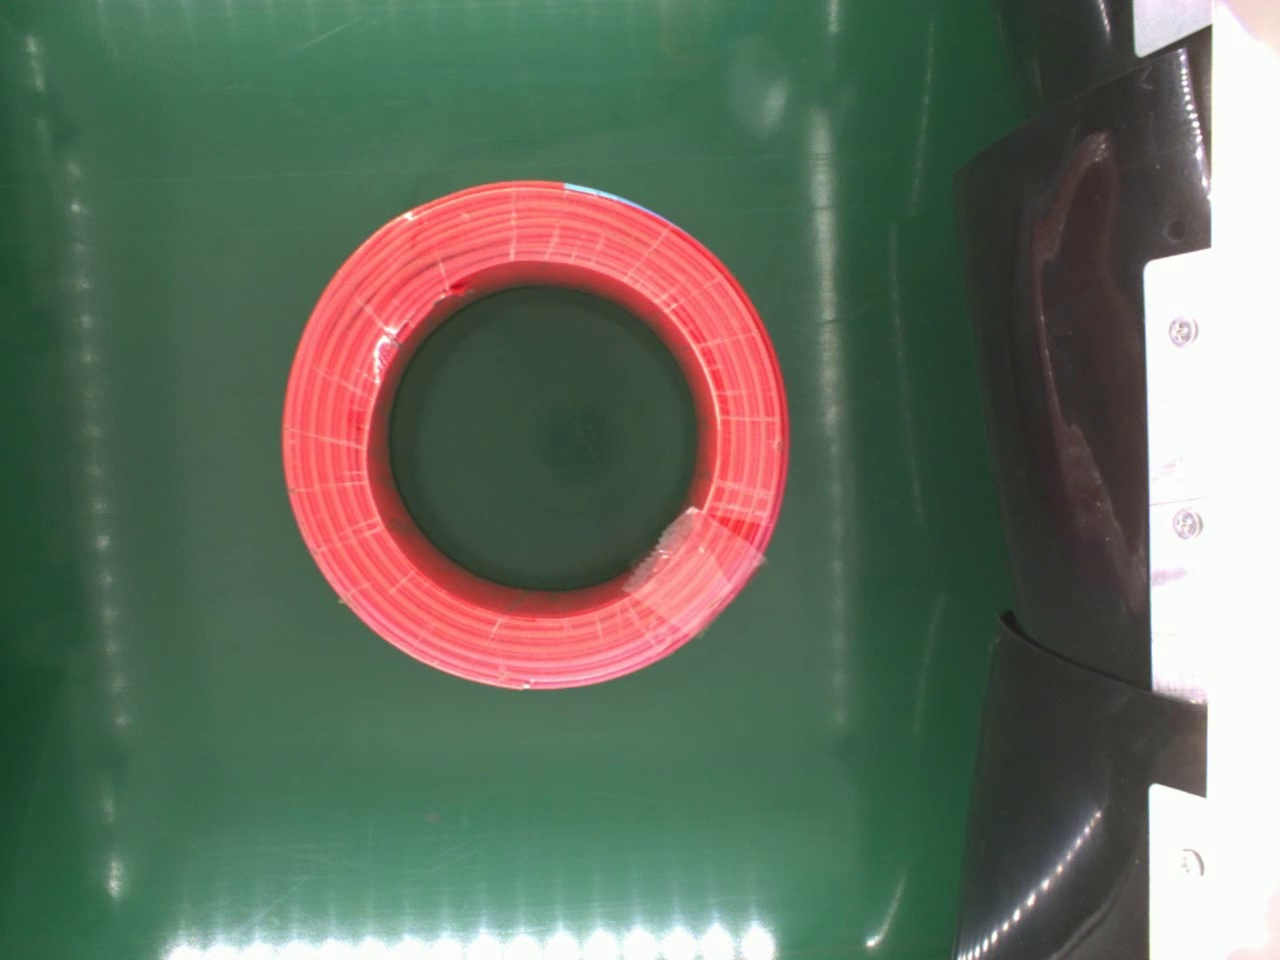red: (274, 176, 794, 694)
